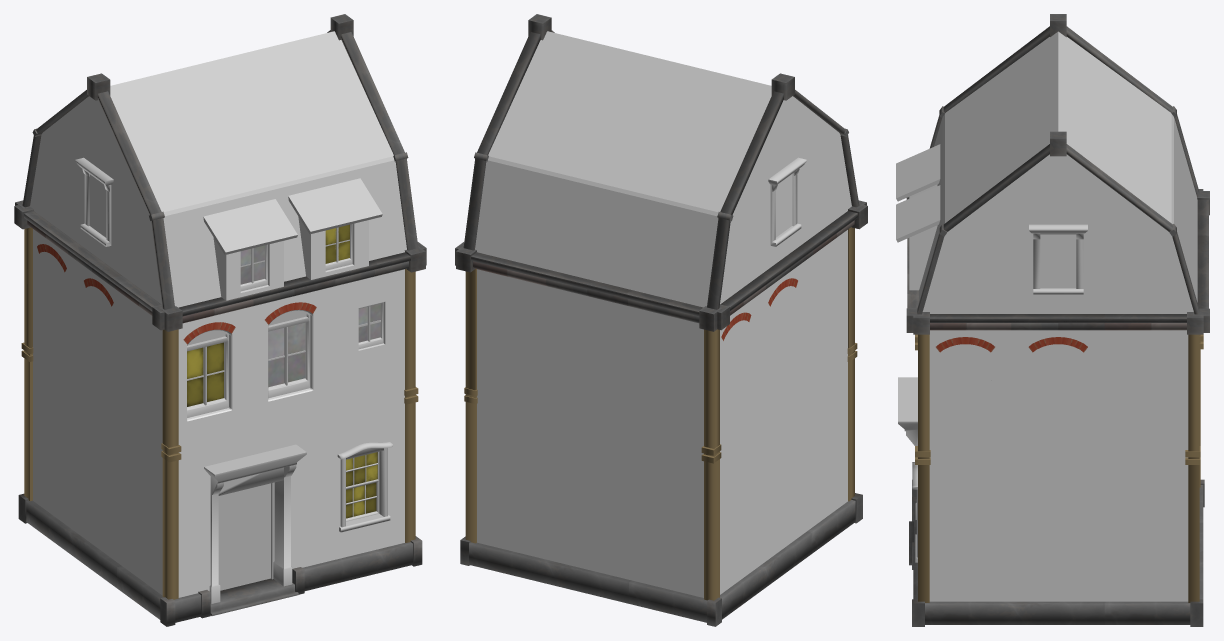
The model's file is Building_05.fbx.
3 views of the same model, side by side, from view 1: azimuth 30°, elevation 25°; view 2: azimuth 150°, elevation 25°; view 3: azimuth 270°, elevation 25° (orthographic).
Parts seen in each view (by area): view 1: Wall_01, Roof_01.006, Wall_03, Wall_03_a, Roof_02.004; view 2: Wall_05, Roof_02.004, Wall_03, Wall_03_a, Wall_02_a, Wall_01, Roof_01.006; view 3: Wall_02, Wall_02_a, Roof_01.006, Roof_02.004, Wall_01, Wall_05.
Boxes of the visible parts, bbox=[...] form: Wall_01: bbox=[160, 269, 422, 626]; Roof_01.006: bbox=[87, 14, 425, 331]; Wall_03: bbox=[14, 96, 164, 619]; Wall_03_a: bbox=[30, 96, 162, 533]; Roof_02.004: bbox=[15, 30, 330, 208]; Wall_05: bbox=[469, 269, 707, 622]; Roof_02.004: bbox=[456, 31, 783, 331]; Wall_03: bbox=[701, 96, 867, 626]; Wall_03_a: bbox=[720, 96, 851, 559]; Wall_02_a: bbox=[455, 242, 477, 565]; Wall_01: bbox=[847, 227, 862, 523]; Roof_01.006: bbox=[528, 14, 866, 208]; Wall_02: bbox=[913, 154, 1203, 626]; Wall_02_a: bbox=[913, 155, 1203, 626]; Roof_01.006: bbox=[896, 14, 1066, 332]; Roof_02.004: bbox=[1058, 26, 1209, 332]; Wall_01: bbox=[898, 334, 930, 626]; Wall_05: bbox=[1199, 485, 1203, 599].
Size of what is drawn, in the model's own units: 6.56 by 11.62 by 6.76.
